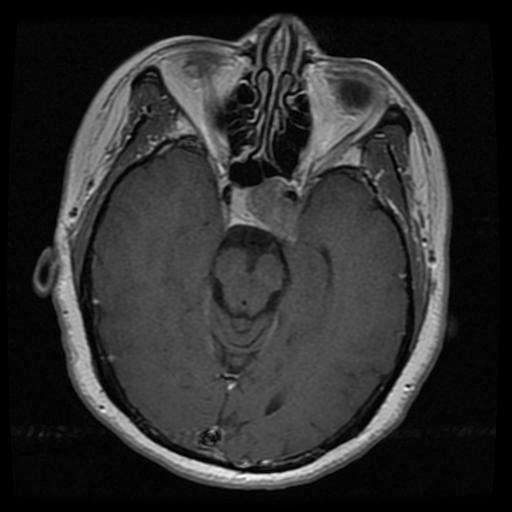Tumour-Pituitary: (217, 179, 311, 238)
